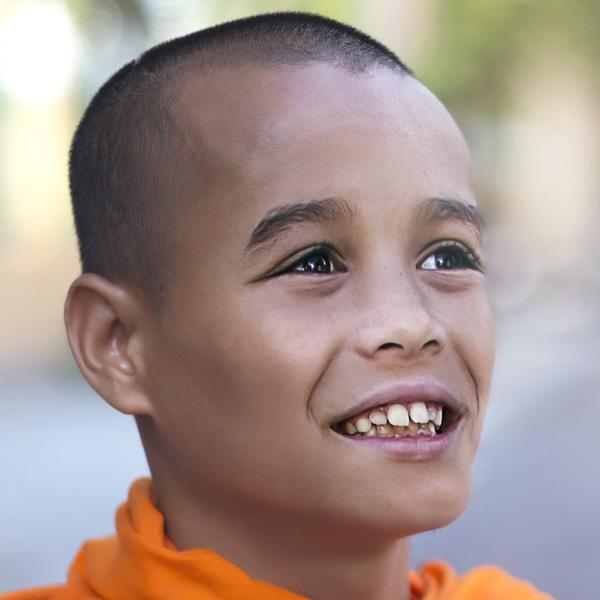Eyes: (260, 231, 359, 300), (401, 232, 489, 293)
